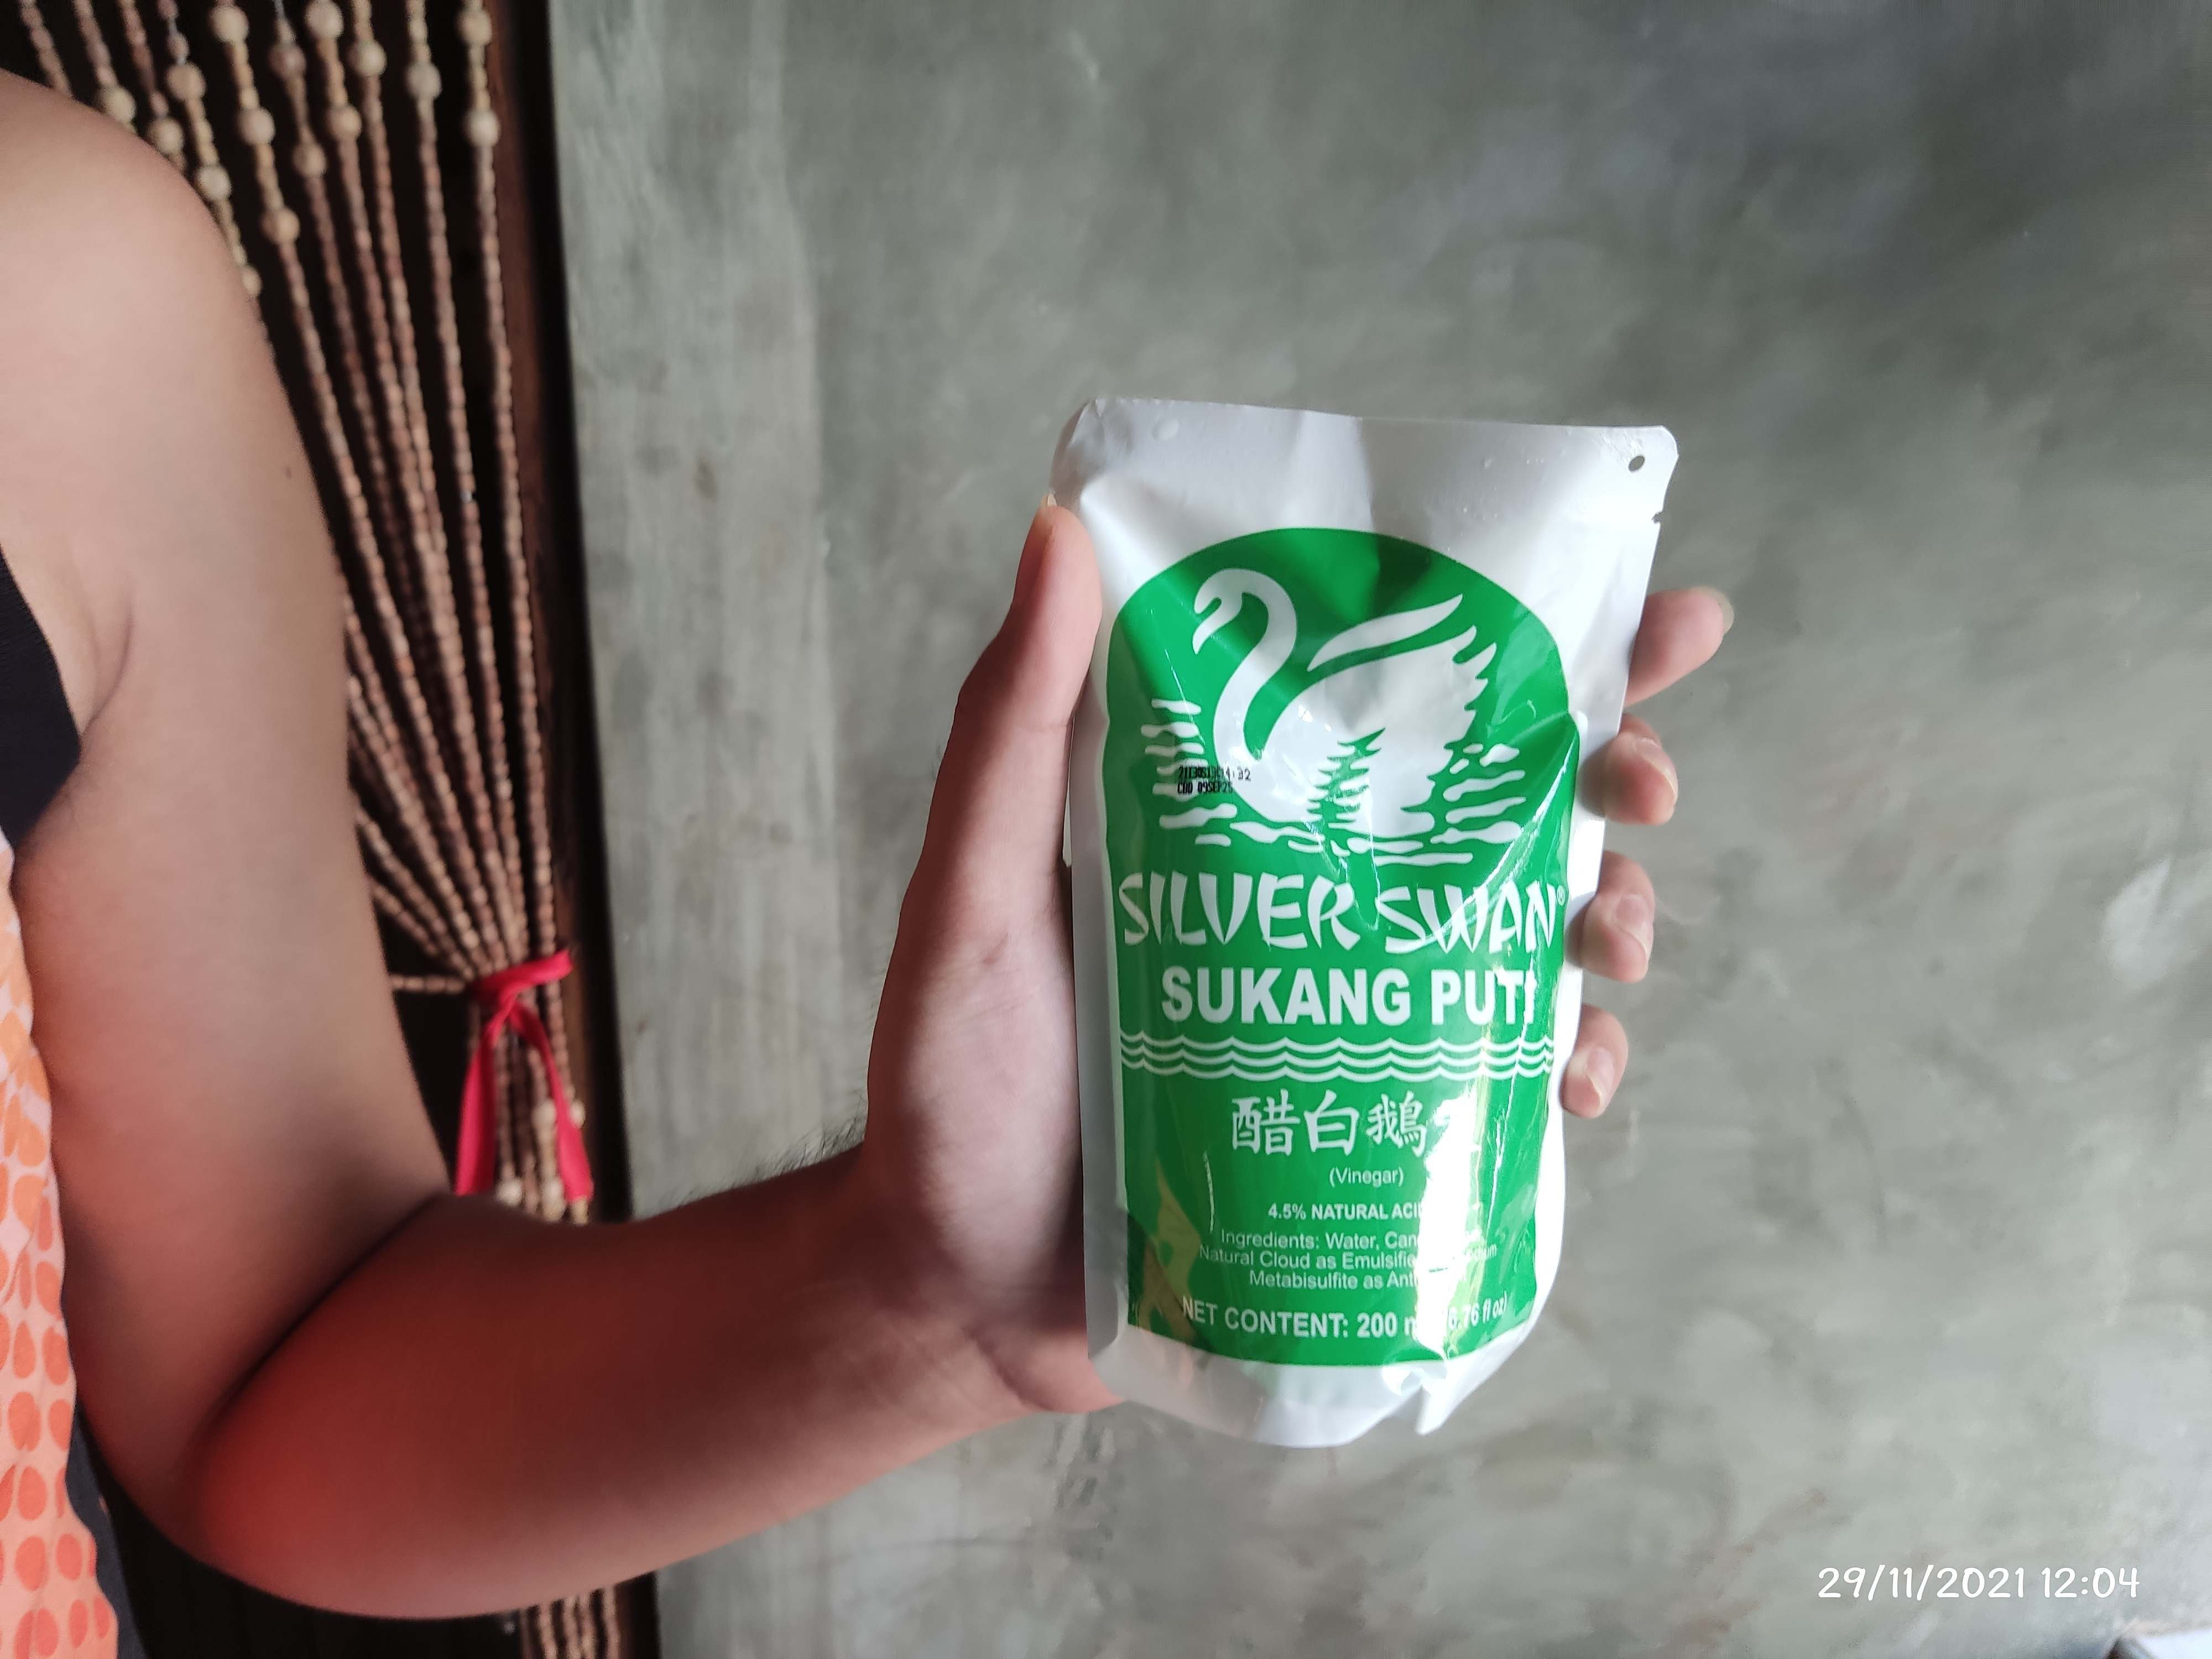vinegar: (1031, 399, 1674, 1455)
